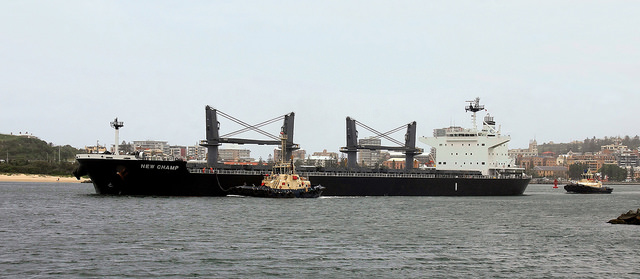bulk carrier: (75, 100, 532, 194)
tug_boat: (240, 143, 324, 198), (566, 160, 612, 191)
